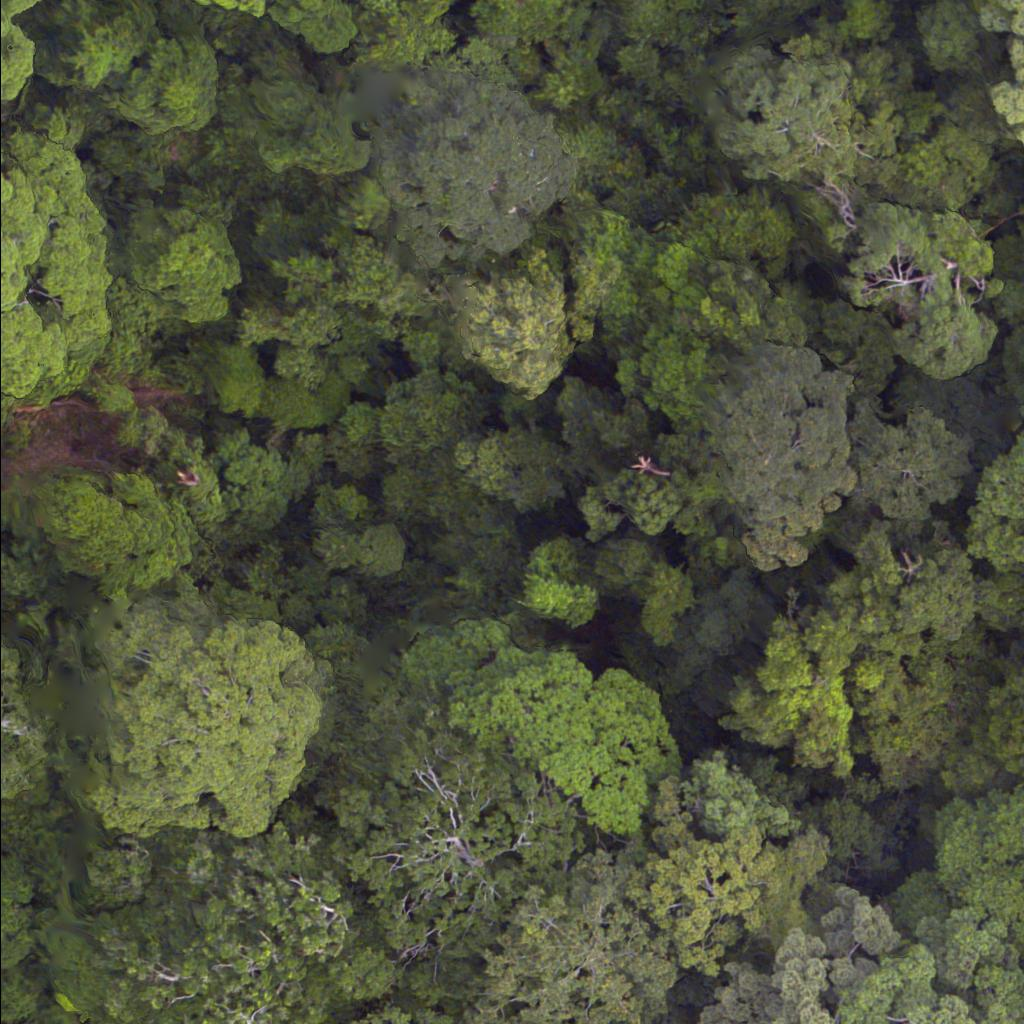crown: (331, 724, 584, 982), (421, 618, 670, 847), (75, 609, 325, 824), (682, 348, 867, 583), (368, 78, 594, 256), (865, 771, 1023, 969), (475, 872, 673, 1023), (726, 60, 875, 256), (640, 834, 830, 979), (0, 148, 115, 379), (843, 217, 992, 387), (722, 906, 889, 1023), (733, 626, 851, 777), (473, 261, 584, 397), (125, 210, 246, 329), (833, 951, 1023, 1023), (855, 417, 970, 526), (0, 636, 50, 793), (974, 0, 1023, 131), (0, 0, 52, 121), (978, 448, 1023, 576)
